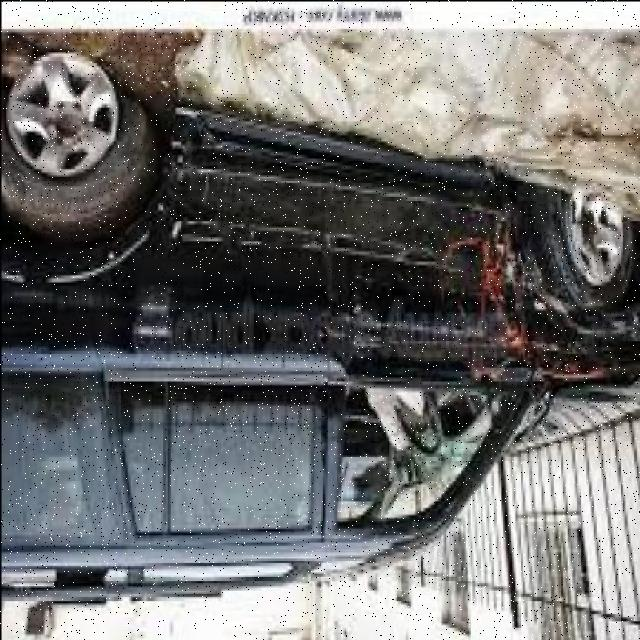damage: (143, 99, 637, 392)
